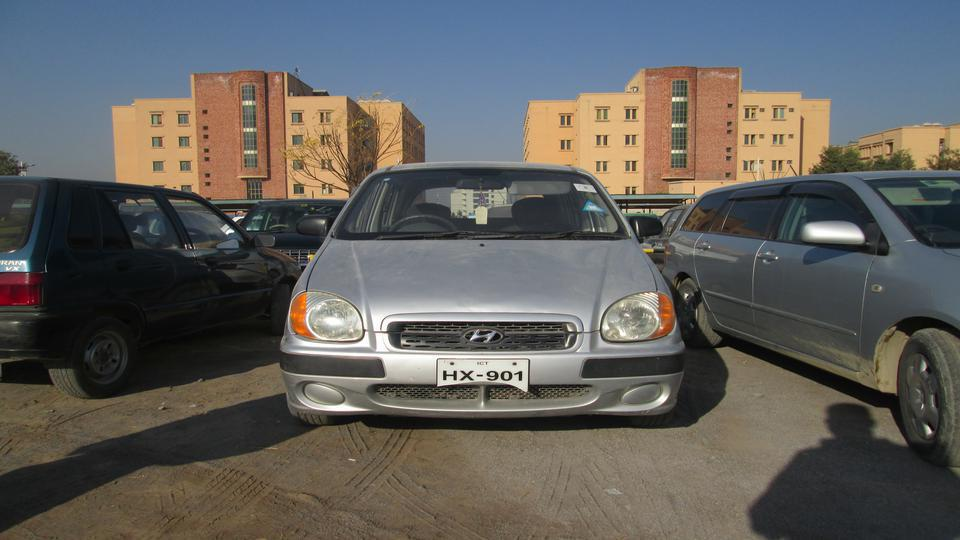NumberPlate: (435, 357, 538, 395)
